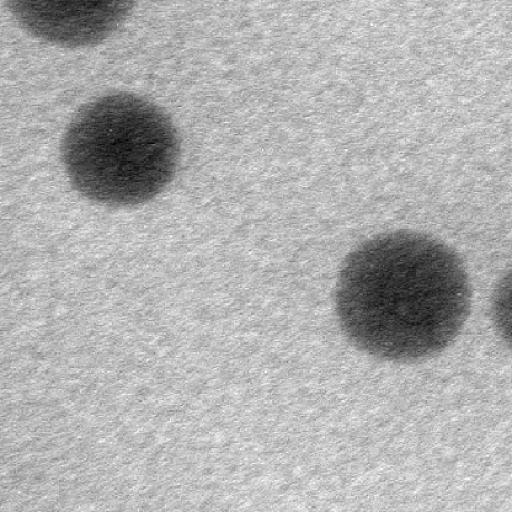Nanoparticles: (333, 224, 472, 368), (58, 90, 182, 212), (5, 0, 139, 52), (488, 269, 511, 351)
